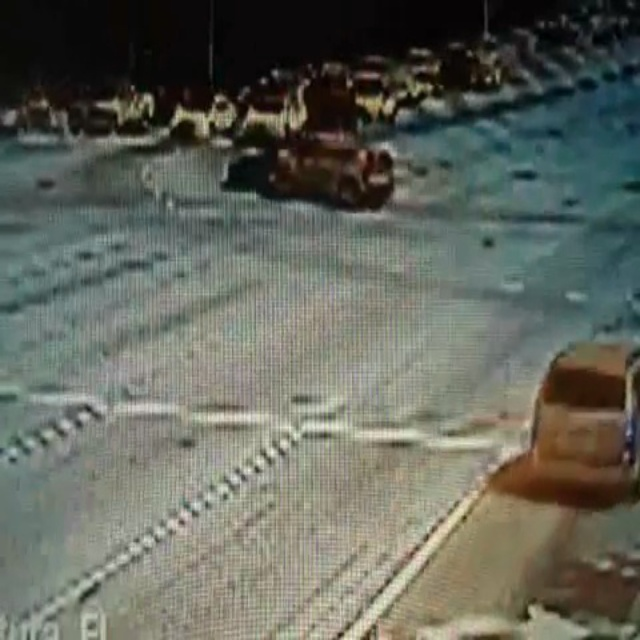acc: (227, 131, 394, 216)
